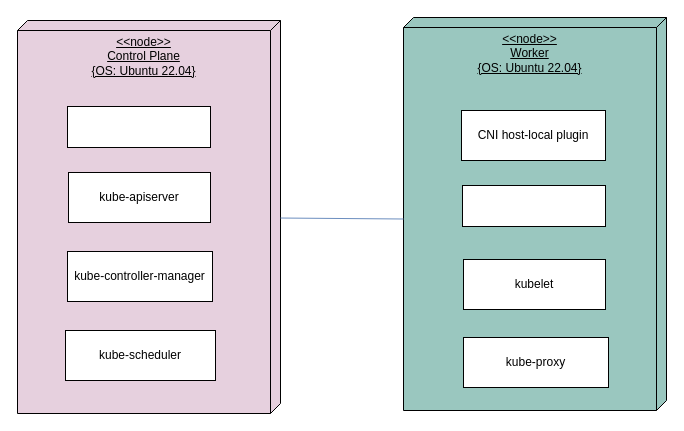
The diagram is 684 pixels wide and 431 high, and some of its shapes have lost their labels. Each missing label, with the centre of its shape:
"containerd" goes at [534,205].
"etcd" goes at [138,127].
